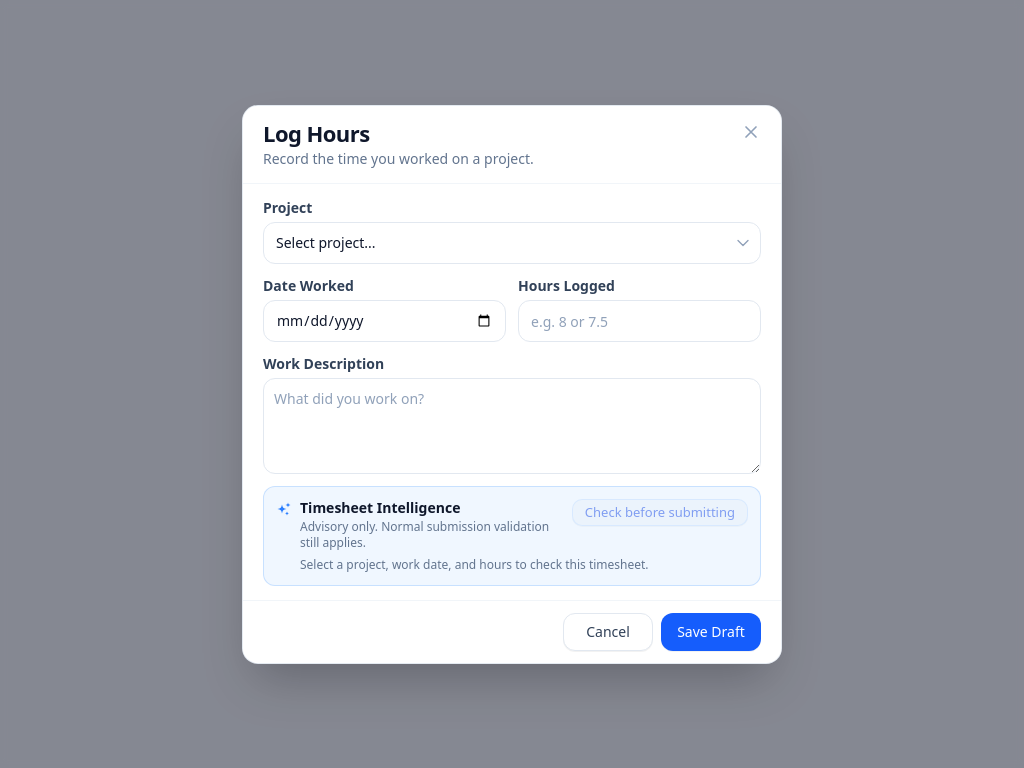
explicitly analyzes form values, clears stale findings on a change, and leaves Save Draft independent
This screenshot has width=1024, height=768.
Expected: the heading "Timesheet Intelligence" is shown, [300, 498, 460, 517]
Select "Demo Project" in the dropdown labelled "Project". click: (512, 243)
box: [263, 222, 761, 264]
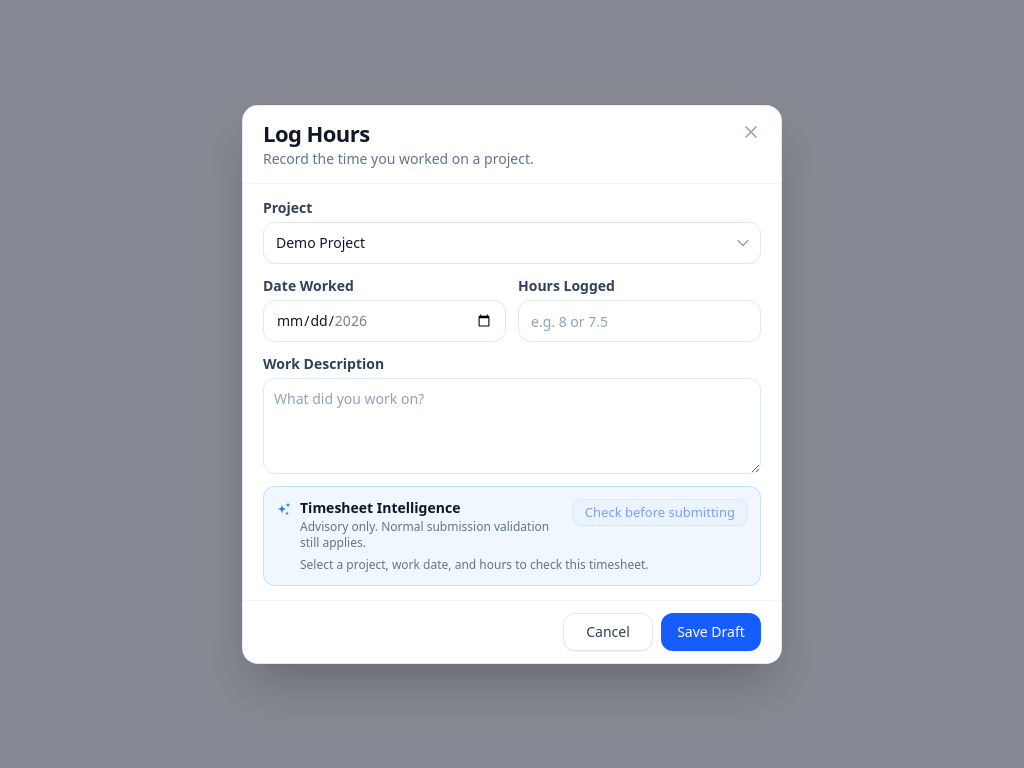
Type "2026-09-11" into the date field labelled "Date Worked". click: (384, 321)
box: [263, 300, 506, 342]
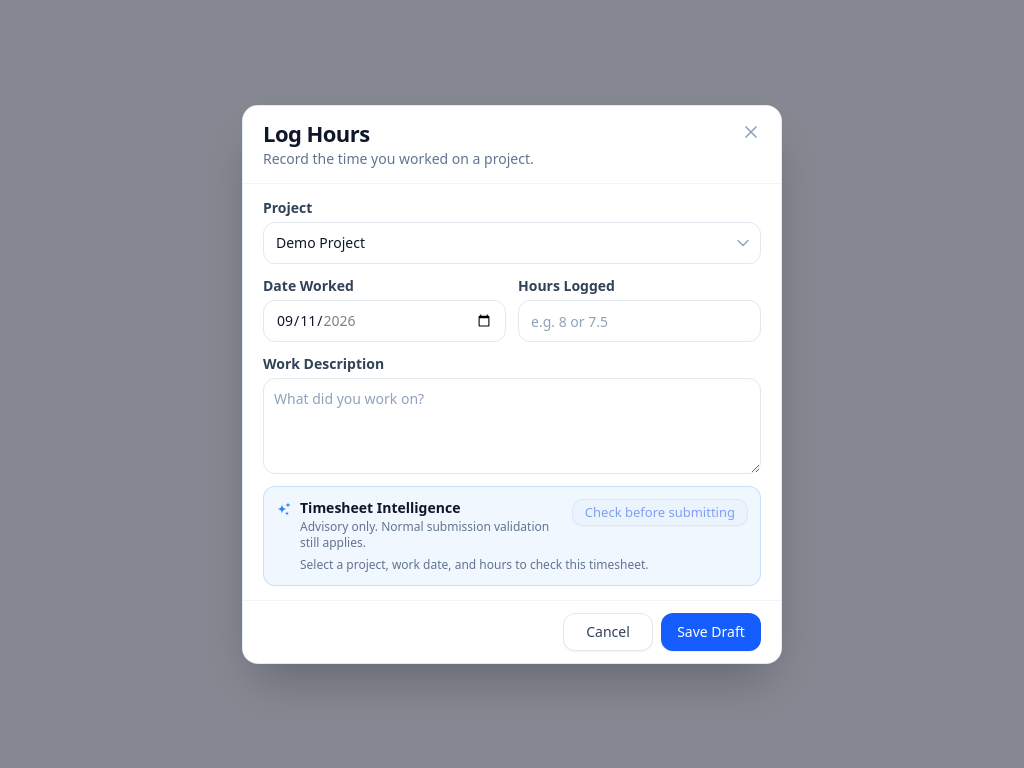
Type "1" into the number field labelled "Hours Logged". click: (640, 321)
box: [518, 300, 761, 342]
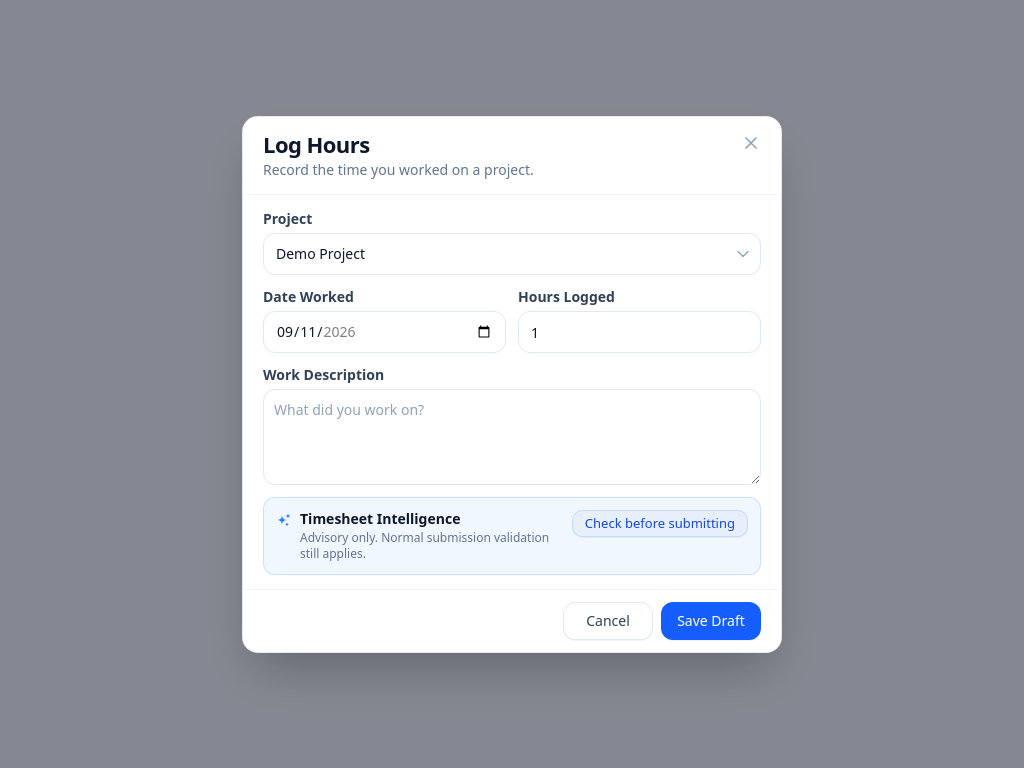
Click the button "Check before submitting". click: (660, 524)
box: [572, 510, 748, 537]
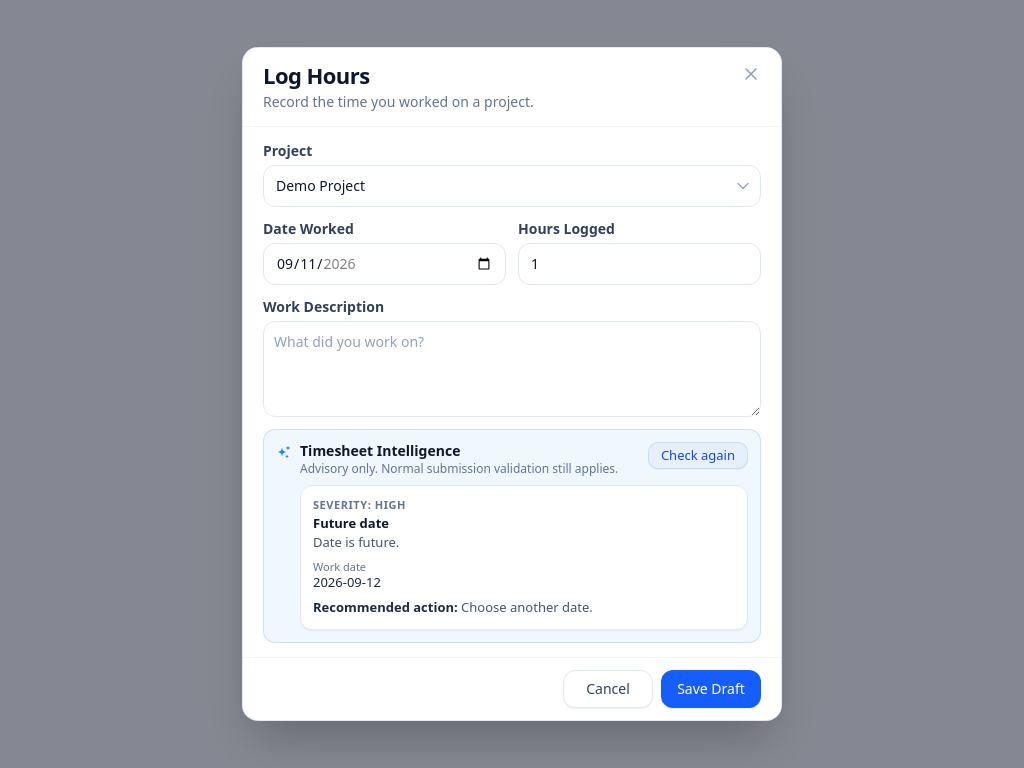
Now the heading "Future date" is shown, box [313, 514, 389, 532]
Replace the text in the number field labelled "Hours Logged" with "2". click: (640, 264)
box: [518, 243, 761, 285]
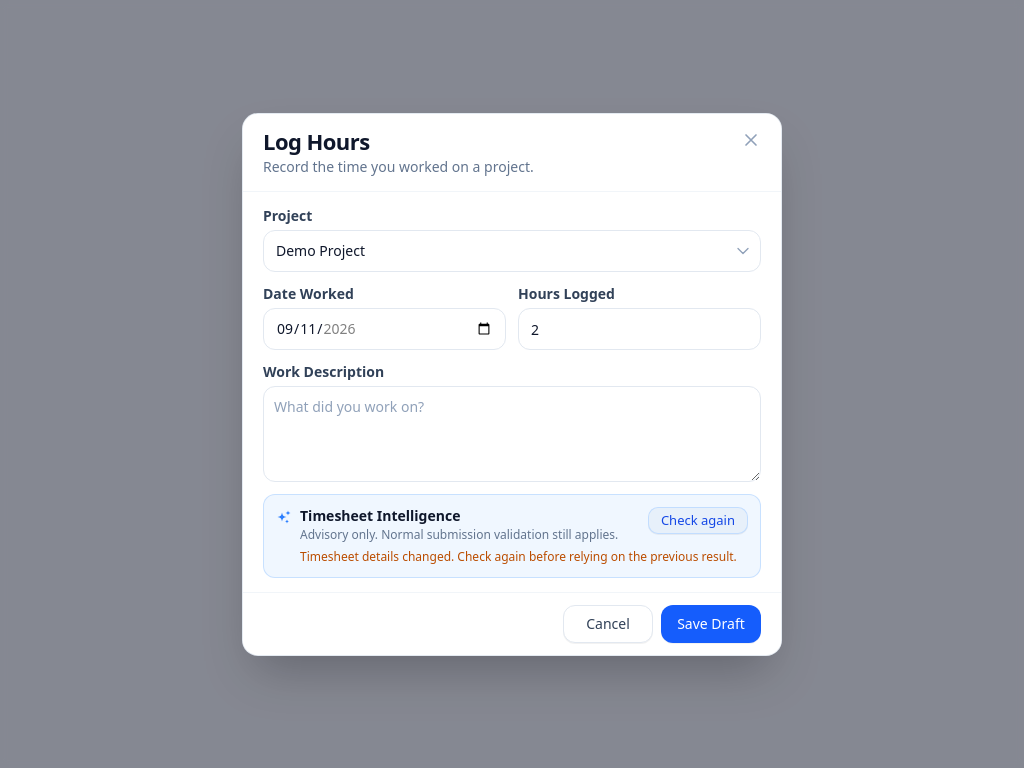
Expected: the button "Save Draft" is enabled, [661, 604, 761, 642]
Now the heading "Future date" is gone
Now the text "Timesheet details changed" is shown, box [300, 548, 737, 564]
